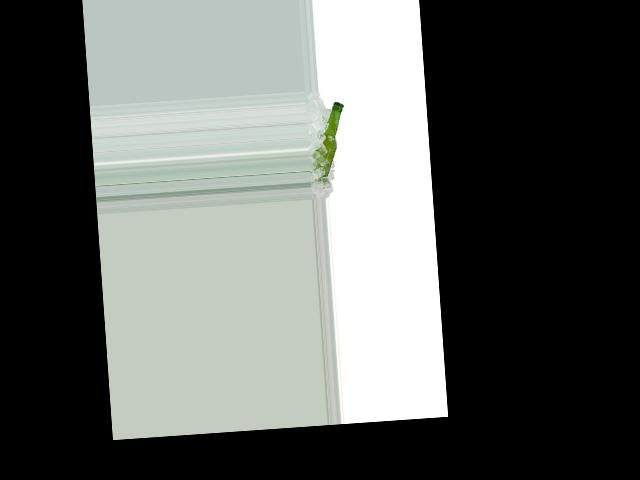beer: (314, 100, 348, 182)
